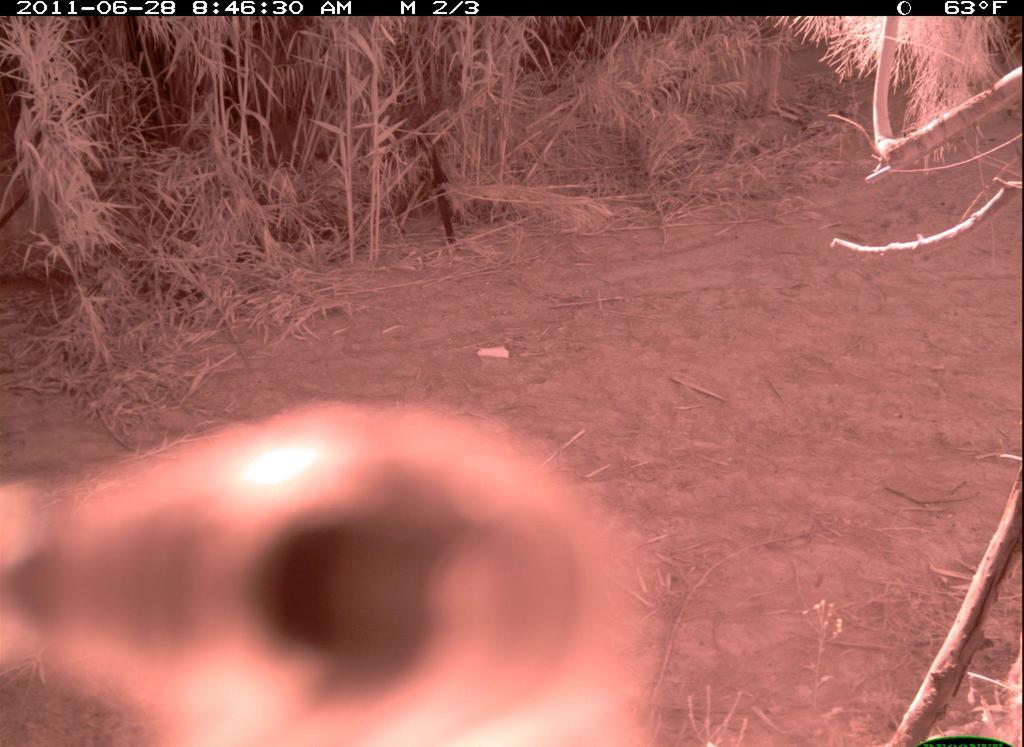bird: (3, 394, 694, 747)
